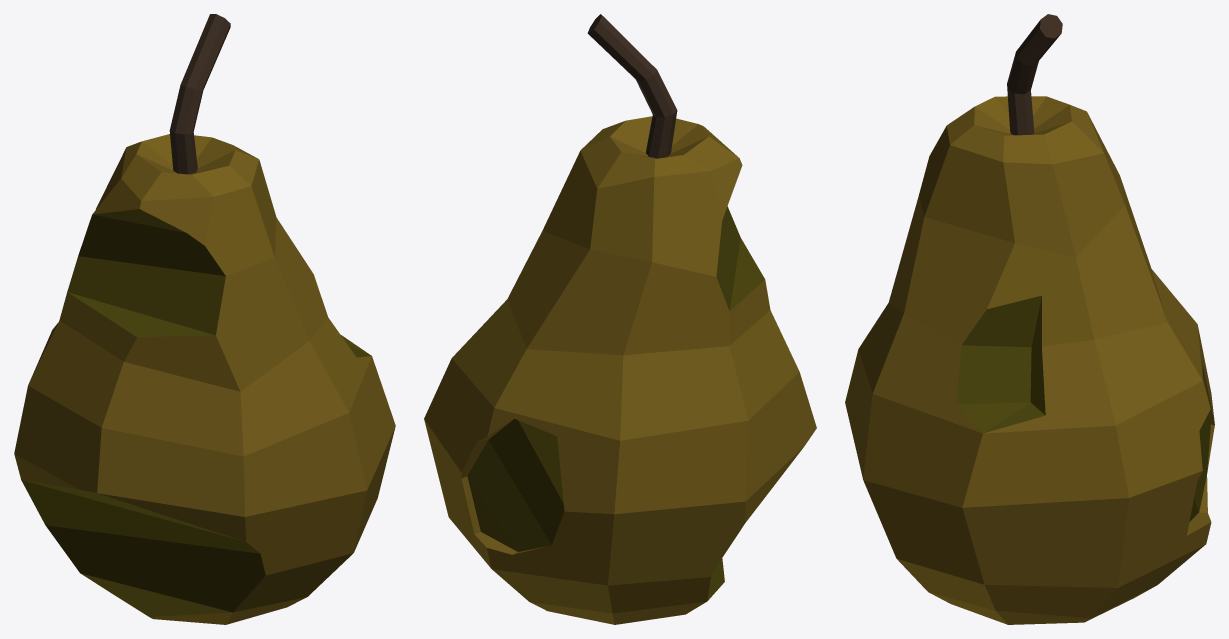
The model's file is Pear_Rotten.fbx.
3 renders of one model, left to right at view 1: azimuth 30°, elevation 25°; view 2: azimuth 150°, elevation 25°; view 3: azimuth 270°, elevation 25°, orthographic. The views are drawn at different scales.
Parts seen in each view (by area): view 1: SM_Pear_Ronnet; view 2: SM_Pear_Ronnet; view 3: SM_Pear_Ronnet.
Boxes of the visible parts, x1,y1,x2,y2 form: SM_Pear_Ronnet: (14,14,395,624); SM_Pear_Ronnet: (424,14,816,624); SM_Pear_Ronnet: (845,14,1214,624).
Size of the model in its own units: 5.57 by 9.69 by 5.62.
1 material, 1 textured.
